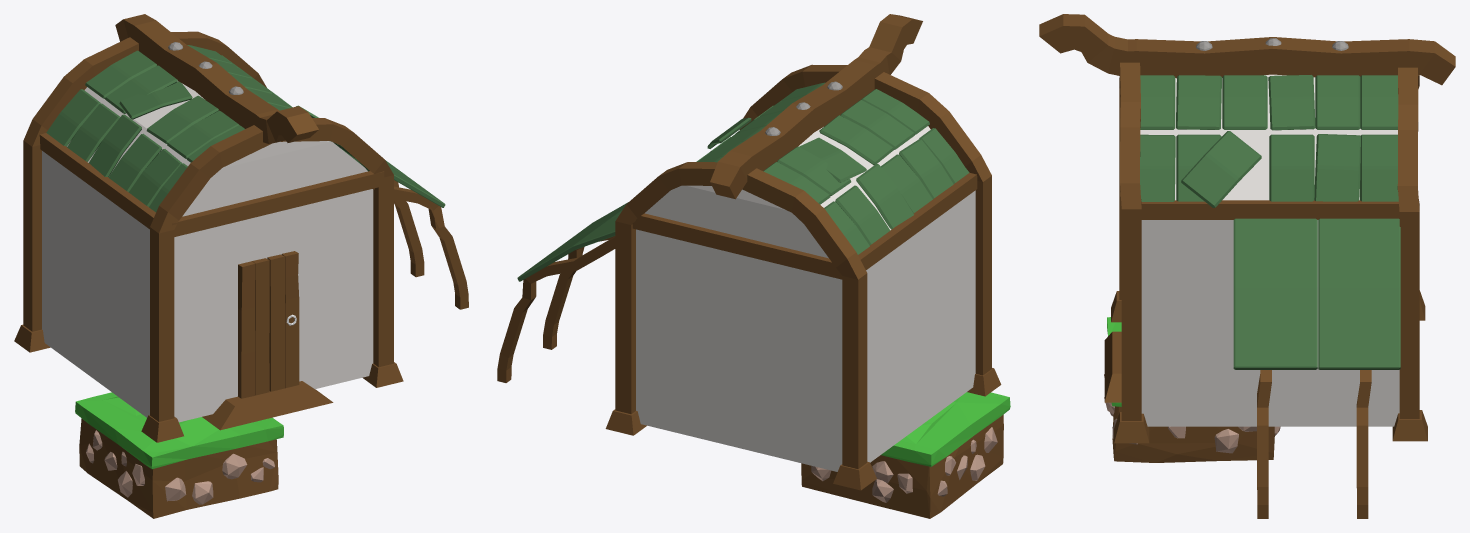
File: Building1.fbx
3 renders of one model, left to right at view 1: azimuth 30°, elevation 25°; view 2: azimuth 150°, elevation 25°; view 3: azimuth 270°, elevation 25°, orthographic. The views are drawn at different scales.
Parts seen in each view (by area): view 1: Cube, Ground, Cube.008, Rocks; view 2: Cube, Ground, Cube.008, Rocks; view 3: Cube, Cube.008, Ground, Rocks.
Part boxes in pixels (<box>): Cube: <box>14,14,403,442</box>; Ground: <box>75,392,283,518</box>; Cube.008: <box>385,160,468,309</box>; Rocks: <box>86,430,274,504</box>; Cube: <box>605,14,1001,490</box>; Ground: <box>801,392,1010,518</box>; Cube.008: <box>497,202,628,382</box>; Rocks: <box>811,427,997,502</box>; Cube: <box>1039,14,1455,443</box>; Cube.008: <box>1233,218,1400,518</box>; Ground: <box>1107,317,1274,462</box>; Rocks: <box>1104,374,1280,453</box>.
Size of the model in its own units: 611 by 593 by 508.
